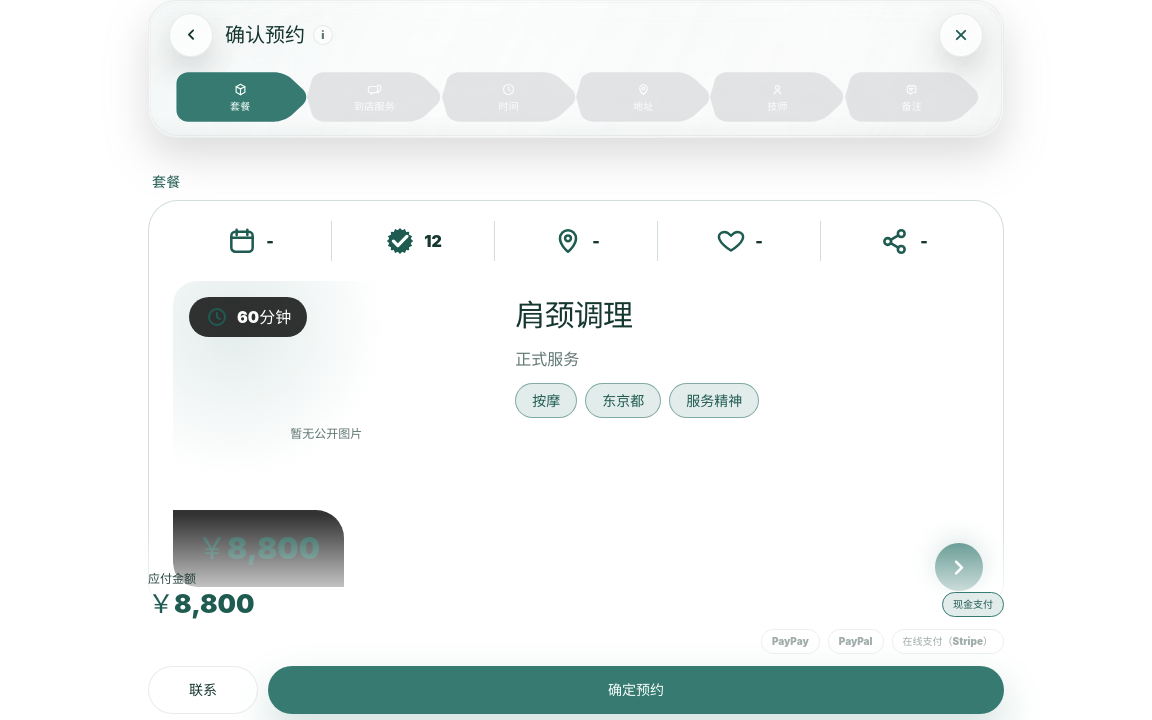
Test case: formal checkout technician-card round trip › reports an expired slot as stale availability instead of a checkout load failure
The image size is (1152, 720).
Click the button "确定预约" at (636, 690), box [268, 666, 1004, 714]
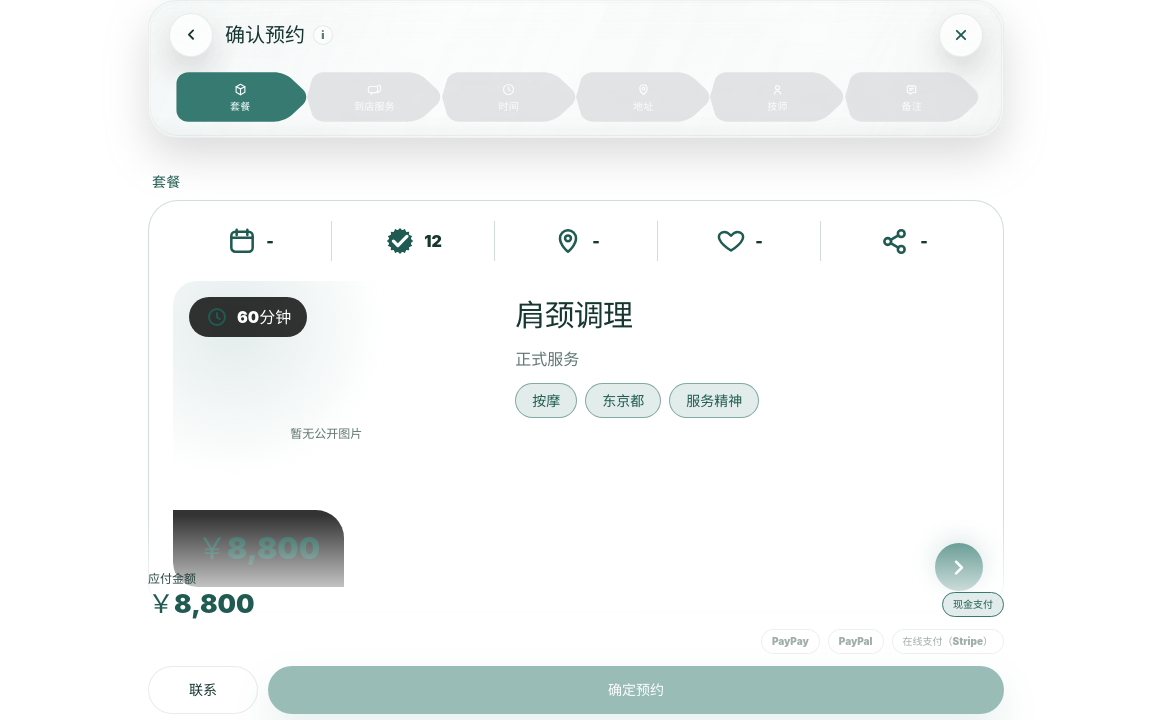
Now the button "确定预约" is disabled, box [268, 666, 1004, 714]
